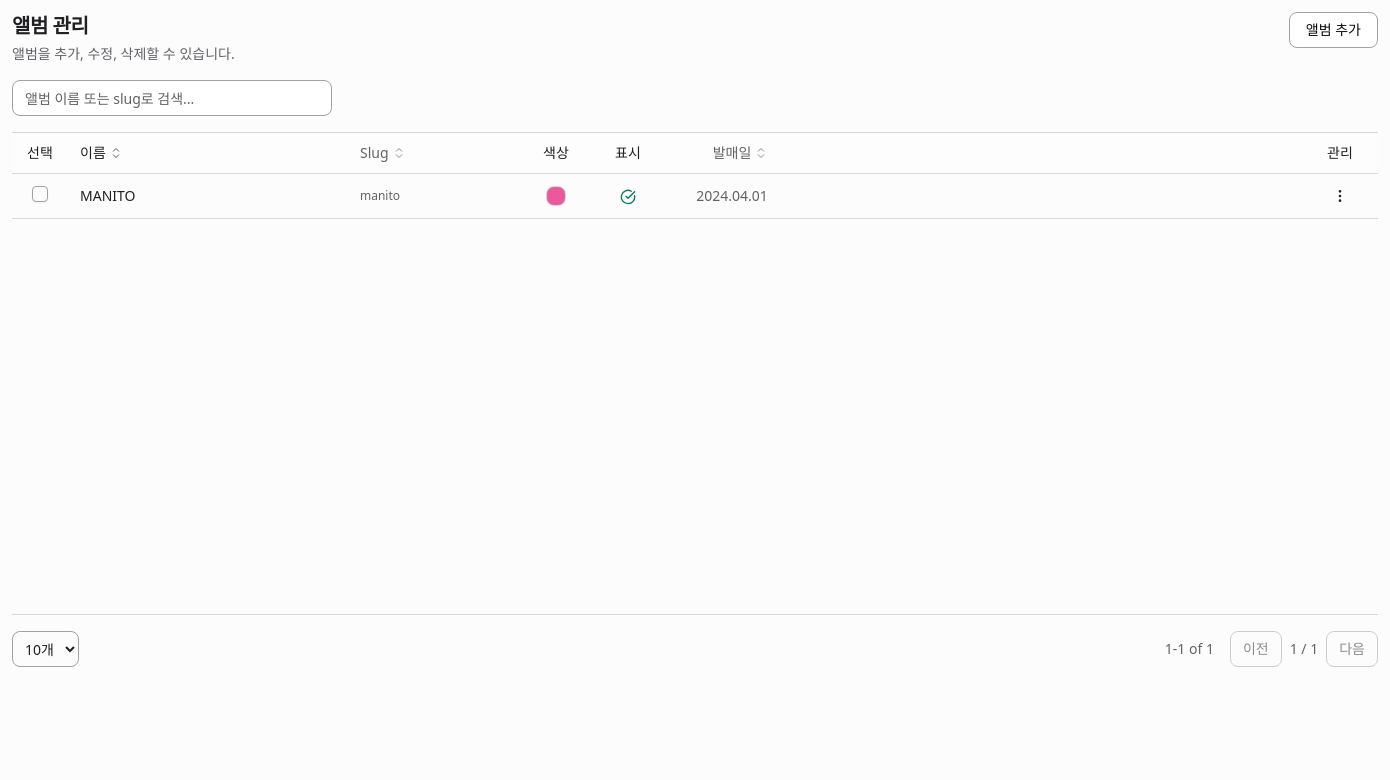
Test: 검색 결과에서 사라진 앨범의 선택을 유지하고 명시적으로 해제한다
This screenshot has width=1390, height=780.
Later steps or results of the test are not shown.
Click the checkbox named "MANITO 선택" at (40, 194), box top-left (32, 186), bottom-right (48, 202)
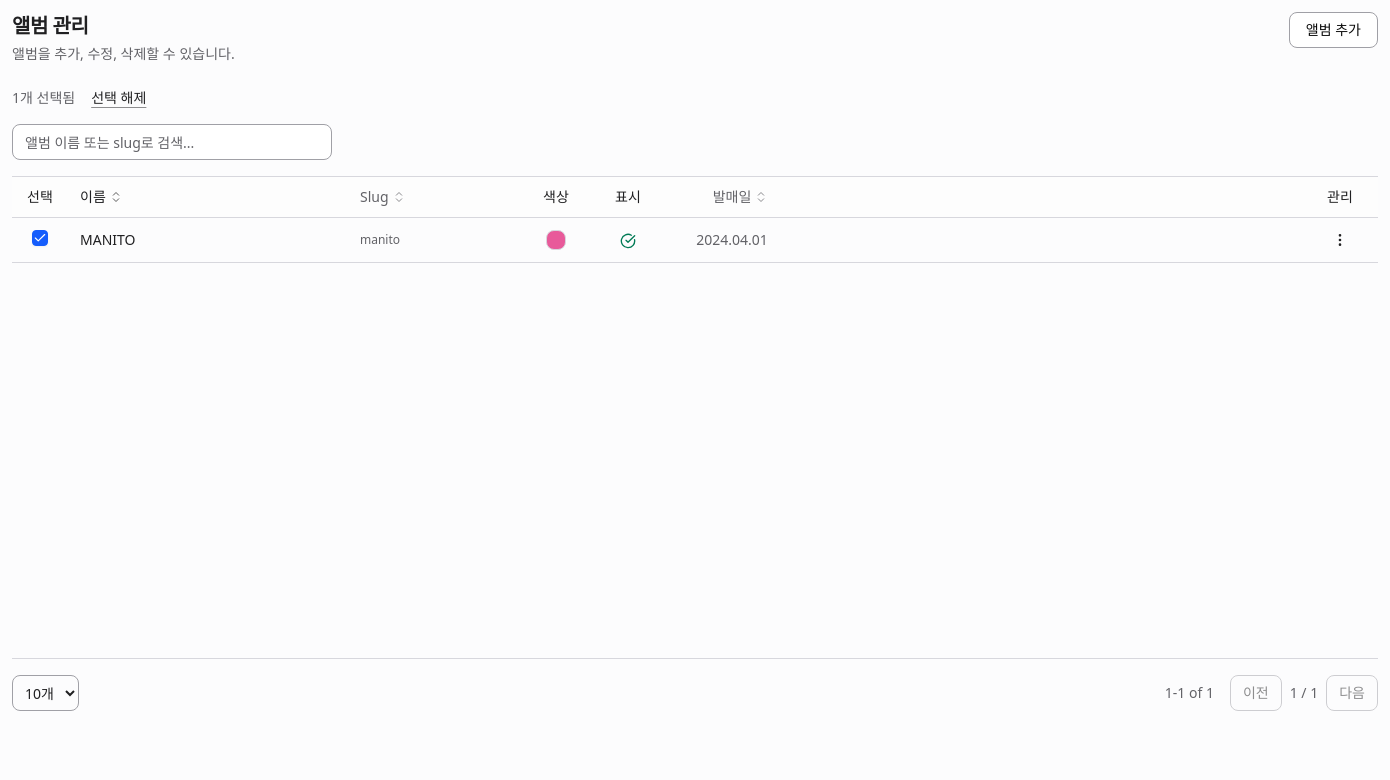
Type "없음" into the field named "앨범 검색" at (172, 142), box top-left (12, 124), bottom-right (332, 160)
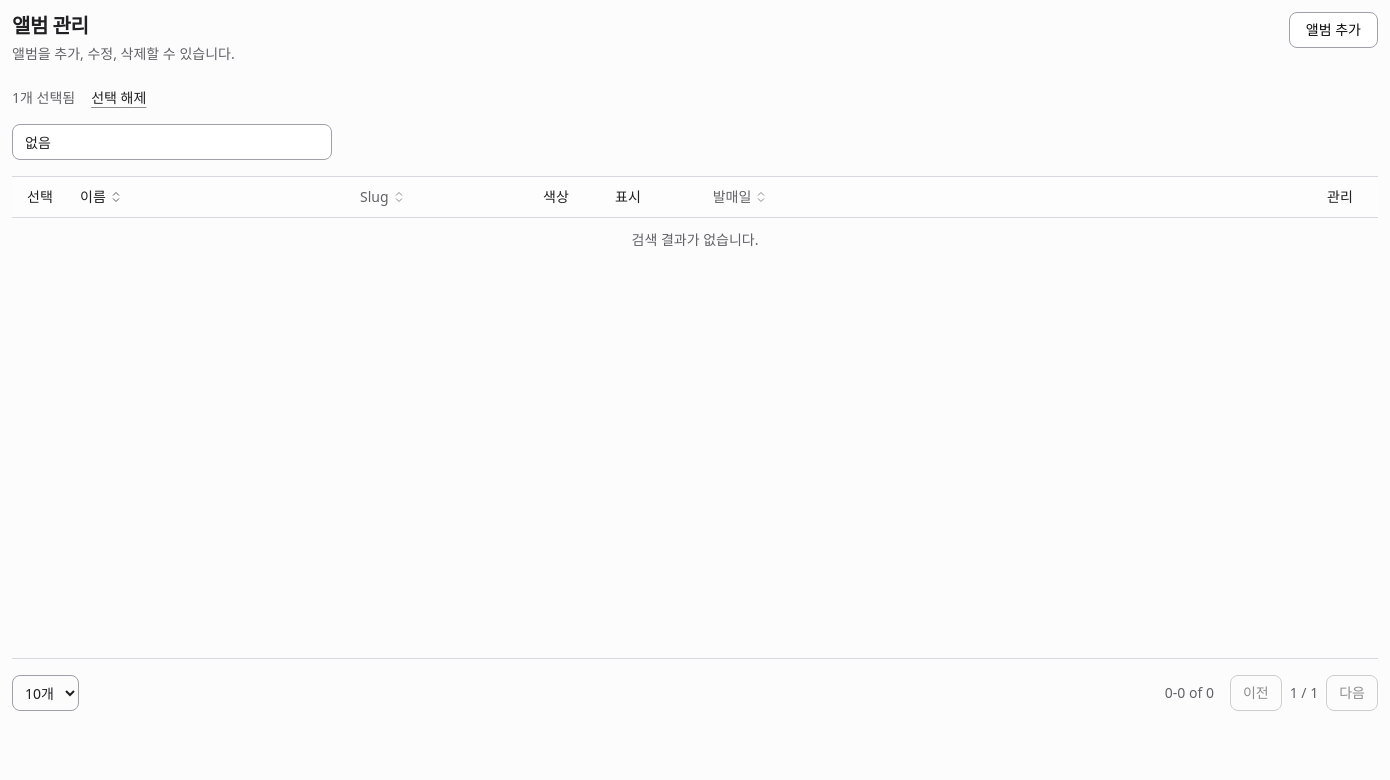
expect the text "1개 선택됨" is shown: met, box top-left (12, 88), bottom-right (75, 108)
